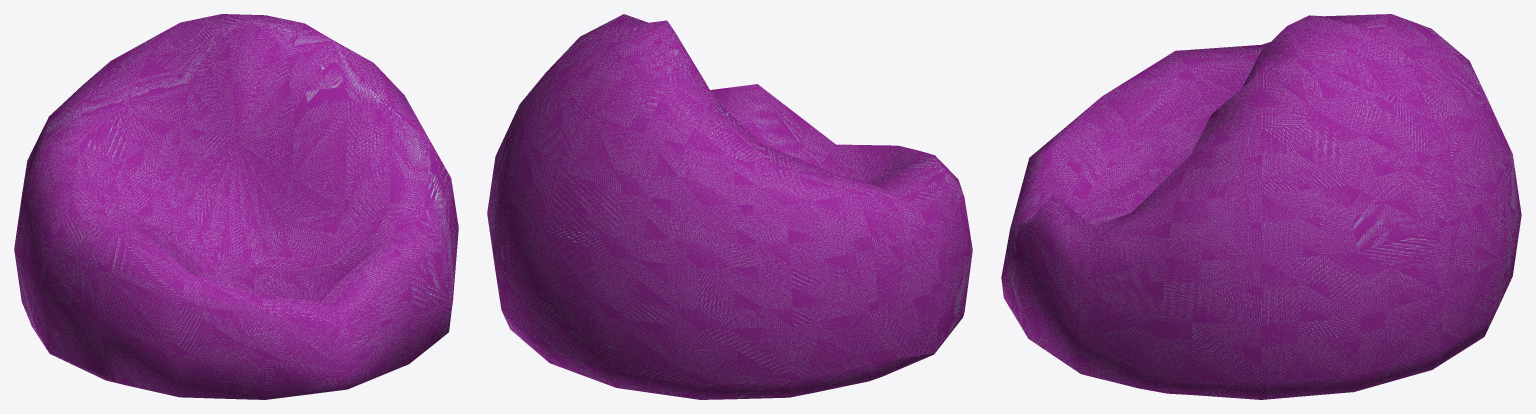
The model's file is BeanBagChair1.fbx.
3 views of the same model, side by side, from view 1: azimuth 30°, elevation 25°; view 2: azimuth 150°, elevation 25°; view 3: azimuth 270°, elevation 25° (orthographic). The views are drawn at different scales.
Parts seen in each view (by area): view 1: Group1; view 2: Group1; view 3: Group1.
Boxes of the visible parts, <box> form: Group1: <box>14,14,458,399</box>; Group1: <box>487,14,972,399</box>; Group1: <box>1001,14,1521,399</box>.
Bounding box in the file's own units: 64.98 × 41.69 × 64.98.
